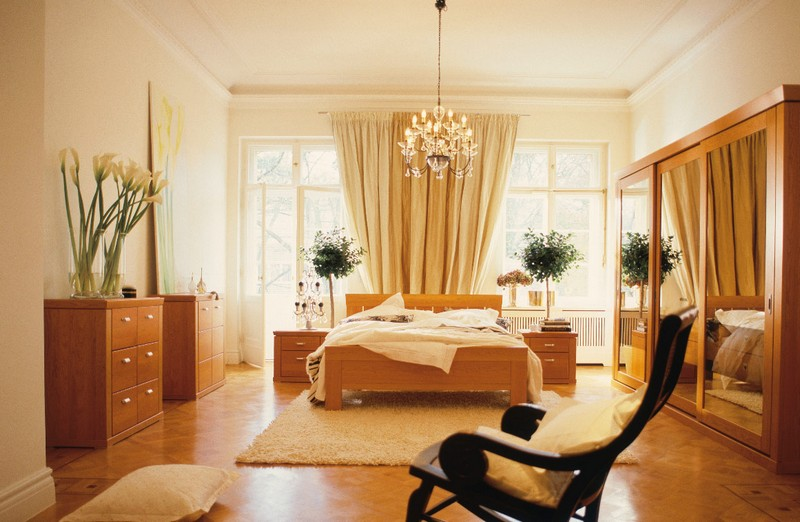bed: (329, 290, 534, 408)
chair: (423, 316, 688, 521)
stool: (46, 296, 165, 449), (165, 293, 228, 405), (519, 322, 579, 385), (267, 329, 326, 392)
